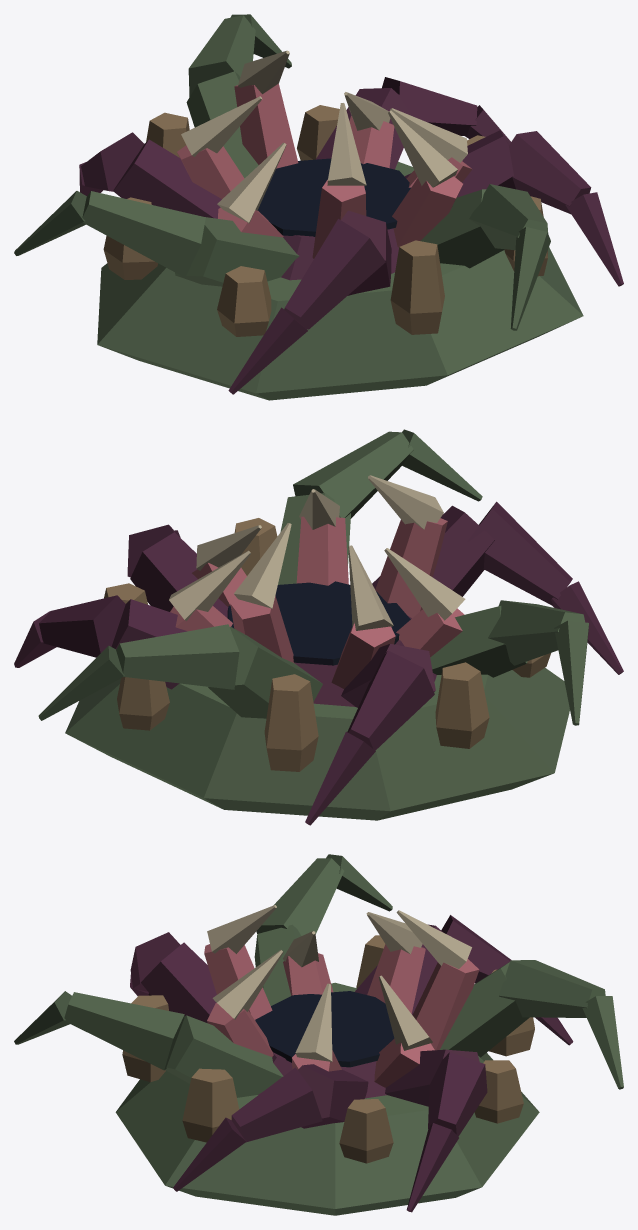
Rendered from hunger-moss-bloom.glb.
3 views of the same model, one above another, from view 1: azimuth 30°, elevation 25°; view 2: azimuth 150°, elevation 25°; view 3: azimuth 270°, elevation 25° (orthographic). The views are drawn at different scales.
Parts seen in each view (by area): view 1: Hunger moss · tooth bloom; view 2: Hunger moss · tooth bloom; view 3: Hunger moss · tooth bloom.
Part boxes in pixels (x1,y1,x2,y2): Hunger moss · tooth bloom: [14, 14, 623, 400]; Hunger moss · tooth bloom: [14, 429, 623, 825]; Hunger moss · tooth bloom: [14, 854, 623, 1215].
Size of the model in its own units: 1.47 by 0.6235 by 1.55.
